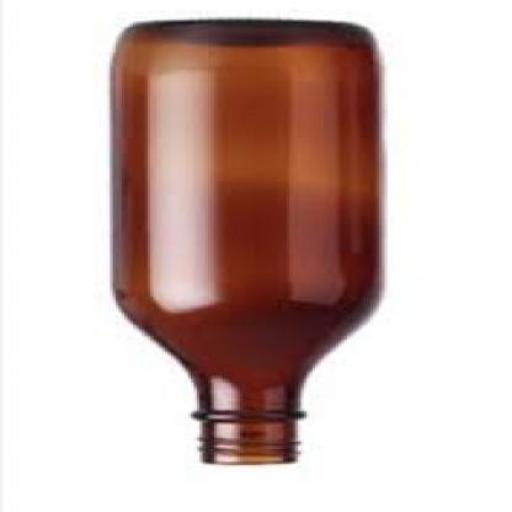glass: (107, 18, 375, 467)
